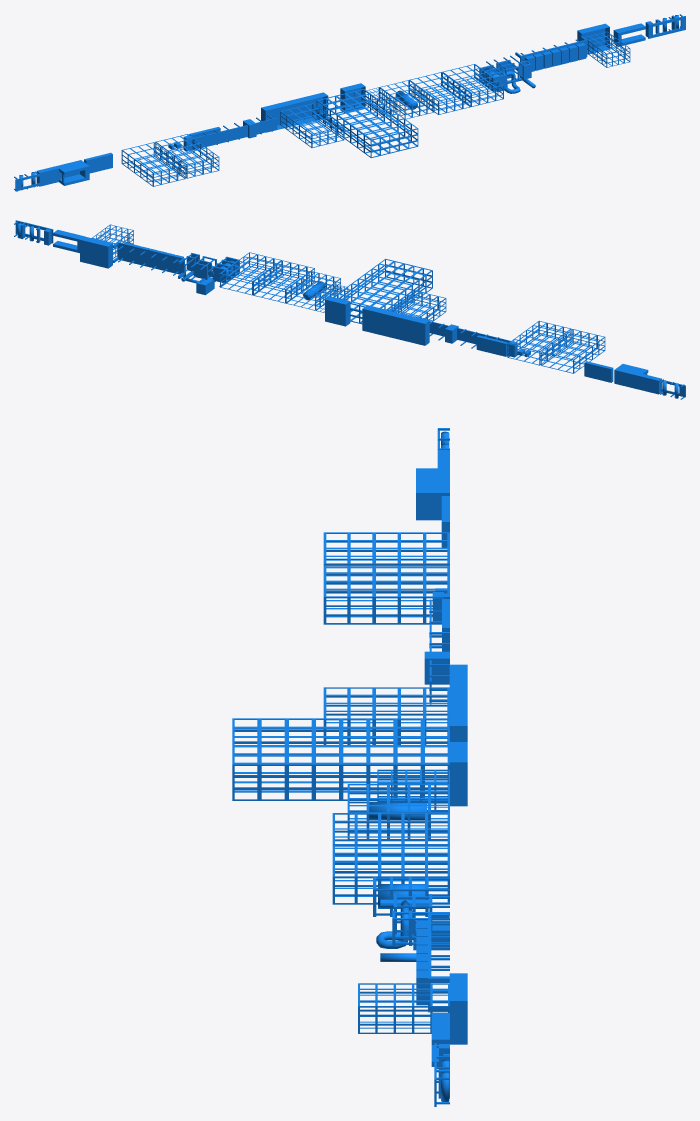
File: 3DFactoryModel.glb
3 views of the same model, one above another, from view 1: azimuth 30°, elevation 25°; view 2: azimuth 150°, elevation 25°; view 3: azimuth 270°, elevation 25° (orthographic). The views are drawn at different scales.
Parts seen in each view (by area): view 1: Cube.005_Cube.005_Buildings, Cube.017_Cube.036_Buildings, Cube.016_Cube.032_Buildings, Cube.014_Cube.014_Buildings, Cube.032_Cube.006_Buildings, Cube.039_Cube.044_Buildings, Cube.006_Cube.043_Buildings, Cube.010_Cube.010_Buildings, Cube.034_Cube.034_Buildings, Cube.040_Cube.045_Buildings, Cube.037_Cube.037_Buildings, Cube.033_Cube.033_Buildings (+7 smaller); view 2: Cube.005_Cube.005_Buildings, Cube.014_Cube.014_Buildings, Cube.017_Cube.036_Buildings, Cube.035_Cube.035_Buildings, Cube.032_Cube.006_Buildings, Cube.039_Cube.044_Buildings, Cube.006_Cube.043_Buildings, Cube.010_Cube.010_Buildings, Cube.040_Cube.045_Buildings, Cube.016_Cube.032_Buildings, Cube.011_Cube.011_Buildings, Cube.001_Cube.001_Buildings (+6 smaller); view 3: Cube.005_Cube.005_Buildings, Cube.032_Cube.006_Buildings, Cube.017_Cube.036_Buildings, Cube.006_Cube.043_Buildings, Cube.039_Cube.044_Buildings, Cube.016_Cube.032_Buildings, Cube.033_Cube.033_Buildings, Cube.040_Cube.045_Buildings, Cube.010_Cube.010_Buildings, Cube.014_Cube.014_Buildings, Cube.041_Cube.046_Buildings, Cube.011_Cube.011_Buildings (+2 smaller).
Part boxes in pixels (x1=…): Cube.005_Cube.005_Buildings: x1=316, y1=89, x2=418, y2=157; Cube.017_Cube.036_Buildings: x1=121, y1=142, x2=185, y2=186; Cube.016_Cube.032_Buildings: x1=280, y1=103, x2=344, y2=147; Cube.014_Cube.014_Buildings: x1=261, y1=92, x2=328, y2=132; Cube.032_Cube.006_Buildings: x1=155, y1=134, x2=219, y2=178; Cube.039_Cube.044_Buildings: x1=409, y1=72, x2=470, y2=114; Cube.006_Cube.043_Buildings: x1=442, y1=64, x2=503, y2=106; Cube.010_Cube.010_Buildings: x1=36, y1=160, x2=89, y2=186; Cube.034_Cube.034_Buildings: x1=524, y1=43, x2=586, y2=71; Cube.040_Cube.045_Buildings: x1=379, y1=80, x2=434, y2=119; Cube.037_Cube.037_Buildings: x1=192, y1=118, x2=276, y2=149; Cube.033_Cube.033_Buildings: x1=584, y1=31, x2=630, y2=67; Cube.005_Cube.005_Buildings: x1=333, y1=258, x2=432, y2=324; Cube.014_Cube.014_Buildings: x1=362, y1=305, x2=429, y2=345; Cube.017_Cube.036_Buildings: x1=541, y1=329, x2=605, y2=373; Cube.035_Cube.035_Buildings: x1=113, y1=242, x2=184, y2=278; Cube.032_Cube.006_Buildings: x1=507, y1=320, x2=571, y2=365; Cube.039_Cube.044_Buildings: x1=253, y1=260, x2=314, y2=303; Cube.006_Cube.043_Buildings: x1=220, y1=252, x2=281, y2=295; Cube.010_Cube.010_Buildings: x1=614, y1=364, x2=661, y2=394; Cube.040_Cube.045_Buildings: x1=286, y1=271, x2=340, y2=310; Cube.016_Cube.032_Buildings: x1=387, y1=290, x2=446, y2=320; Cube.011_Cube.011_Buildings: x1=80, y1=236, x2=112, y2=268; Cube.001_Cube.001_Buildings: x1=325, y1=296, x2=350, y2=326; Cube.005_Cube.005_Buildings: x1=232, y1=718, x2=449, y2=800; Cube.032_Cube.006_Buildings: x1=323, y1=565, x2=449, y2=624; Cube.017_Cube.036_Buildings: x1=323, y1=532, x2=449, y2=591; Cube.006_Cube.043_Buildings: x1=332, y1=845, x2=449, y2=904; Cube.039_Cube.044_Buildings: x1=332, y1=813, x2=449, y2=871; Cube.016_Cube.032_Buildings: x1=323, y1=687, x2=449, y2=744; Cube.033_Cube.033_Buildings: x1=358, y1=983, x2=449, y2=1033; Cube.040_Cube.045_Buildings: x1=347, y1=784, x2=449, y2=839; Cube.010_Cube.010_Buildings: x1=416, y1=449, x2=449, y2=520; Cube.014_Cube.014_Buildings: x1=449, y1=664, x2=467, y2=741; Cube.041_Cube.046_Buildings: x1=377, y1=769, x2=449, y2=810; Cube.011_Cube.011_Buildings: x1=449, y1=973, x2=467, y2=1044.
Size of the model in its own units: 103 by 4.26 by 15.61.
